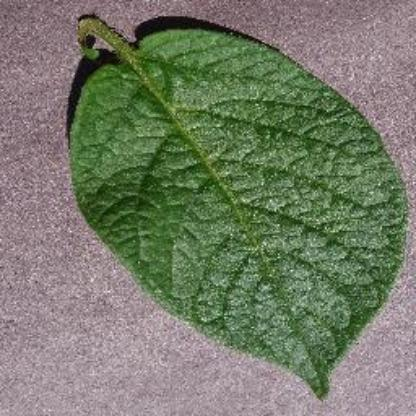Healthy-plant: (50, 10, 413, 400)
